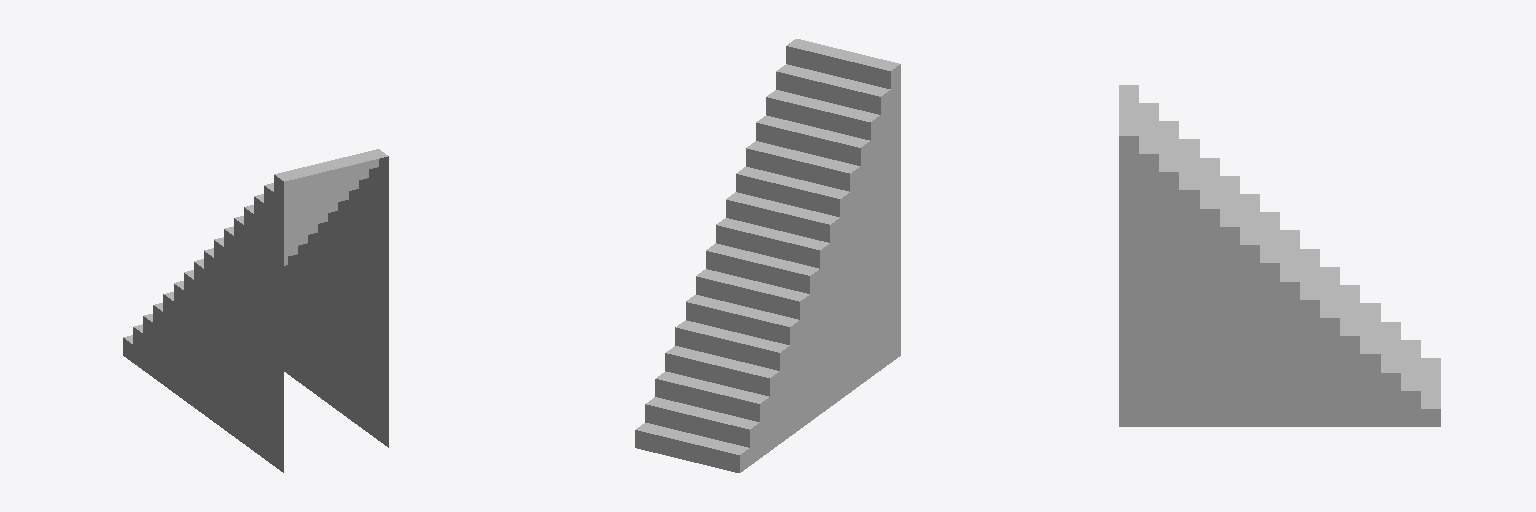
File: stair.obj
3 renders of one model, left to right at view 1: azimuth 30°, elevation 25°; view 2: azimuth 150°, elevation 25°; view 3: azimuth 270°, elevation 25°, orthographic.
Parts seen in each view (by area): view 1: model; view 2: model; view 3: model.
Boxes of the visible parts, x1=… form: model: x1=123, y1=149, x2=388, y2=472; model: x1=635, y1=39, x2=900, y2=472; model: x1=1119, y1=85, x2=1440, y2=426.
Size of the model in its own units: 0.375 by 1 by 1.